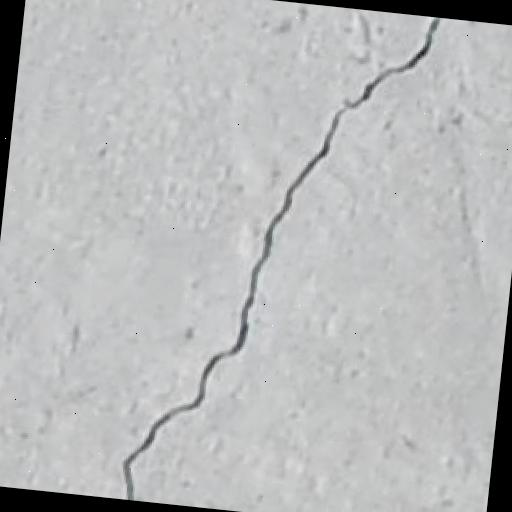spalling: (104, 17, 454, 499)
